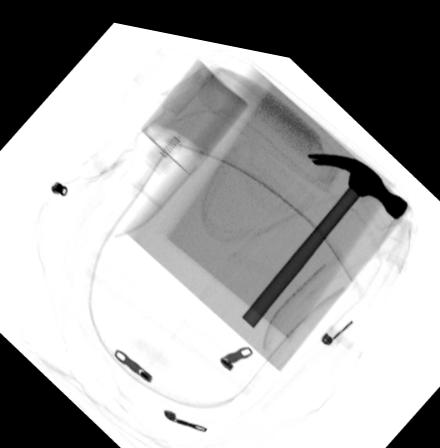Hammer: (238, 137, 408, 319)
